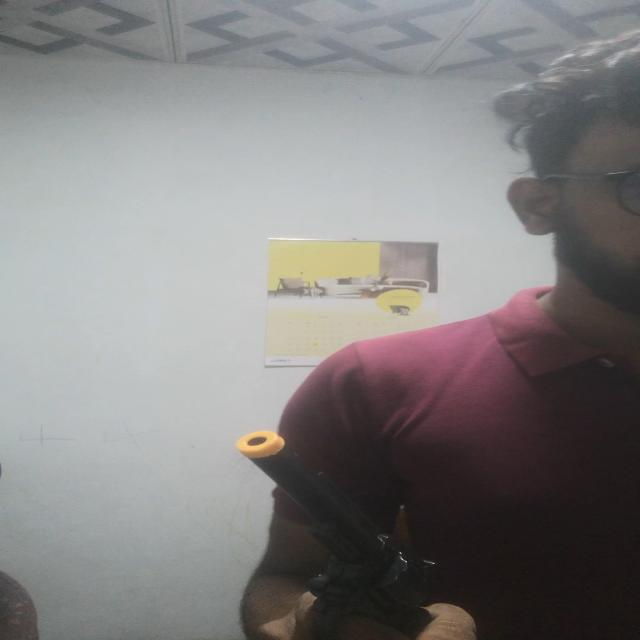Gun_Holder: (204, 417, 442, 640)
Person: (238, 40, 640, 640)
